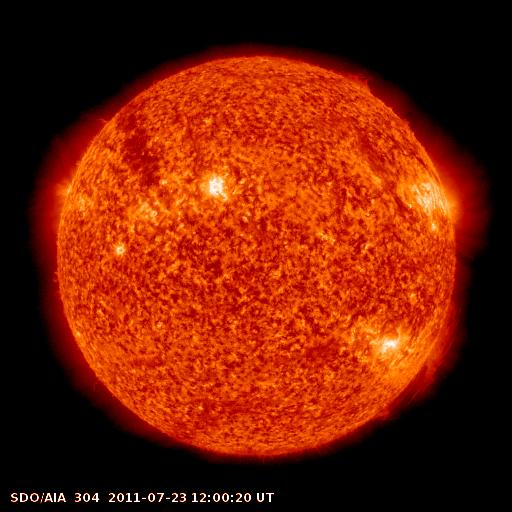prominence: (375, 305, 467, 420), (334, 65, 380, 100)
